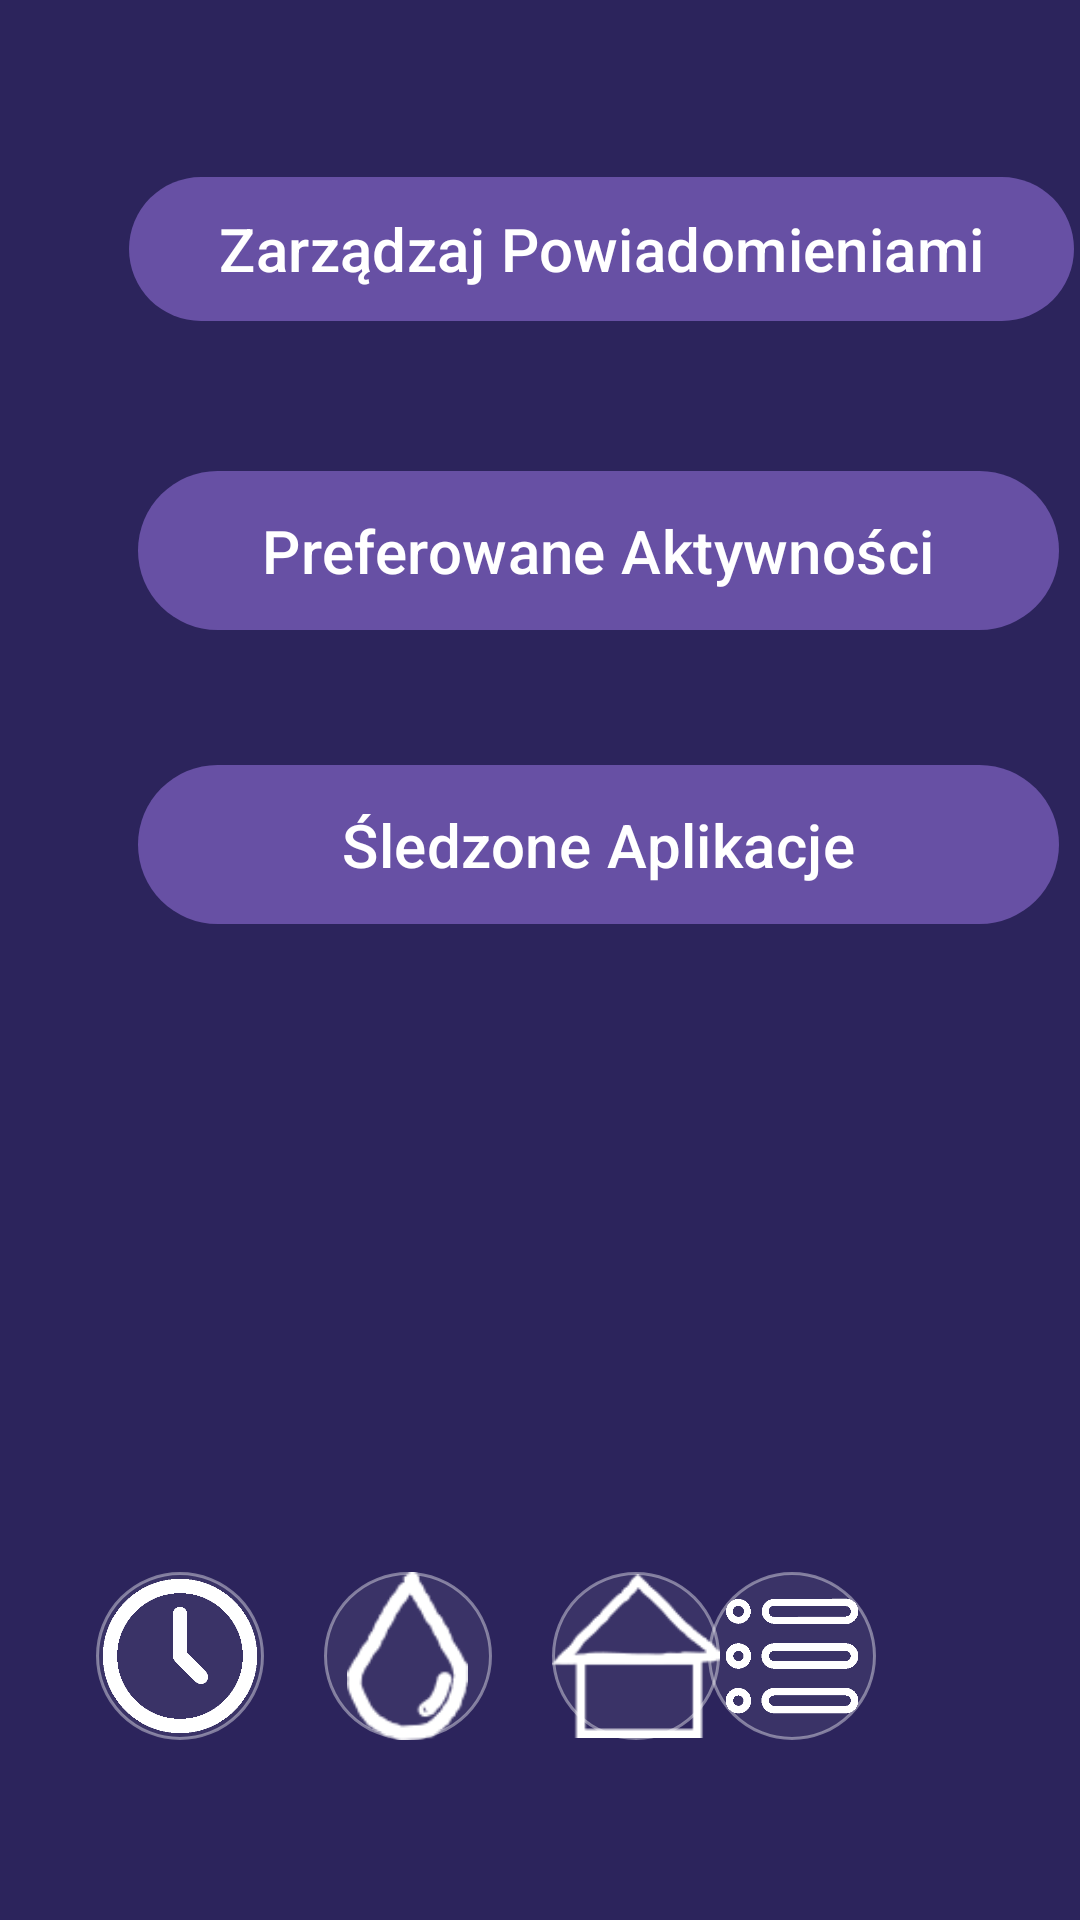

Screen size 1080 x 1920. Icon name, then its center in pixels as (x,y):
water: (408,1656)
